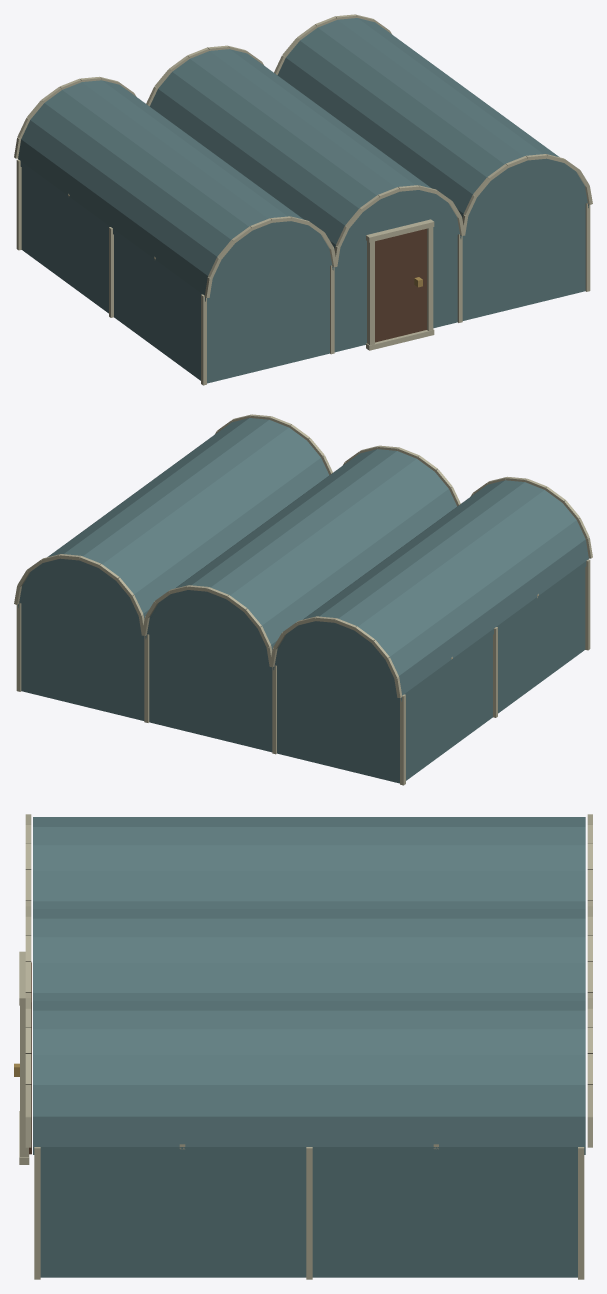
File: Building_Settlement_TripleGrowHouse_001.glb
3 views of the same model, one above another, from view 1: azimuth 30°, elevation 25°; view 2: azimuth 150°, elevation 25°; view 3: azimuth 270°, elevation 25° (orthographic). The views are drawn at different scales.
Parts seen in each view (by area): view 1: Building_Settlement_TripleGrowHouse_001; view 2: Building_Settlement_TripleGrowHouse_001; view 3: Building_Settlement_TripleGrowHouse_001.
Boxes of the visible parts, left/top/right/bottom form: Building_Settlement_TripleGrowHouse_001: left=14, top=14, right=592, bottom=385; Building_Settlement_TripleGrowHouse_001: left=14, top=414, right=592, bottom=785; Building_Settlement_TripleGrowHouse_001: left=14, top=814, right=592, bottom=1279.
Bounding box in the file's own units: 7.27 × 2.74 × 6.39.
